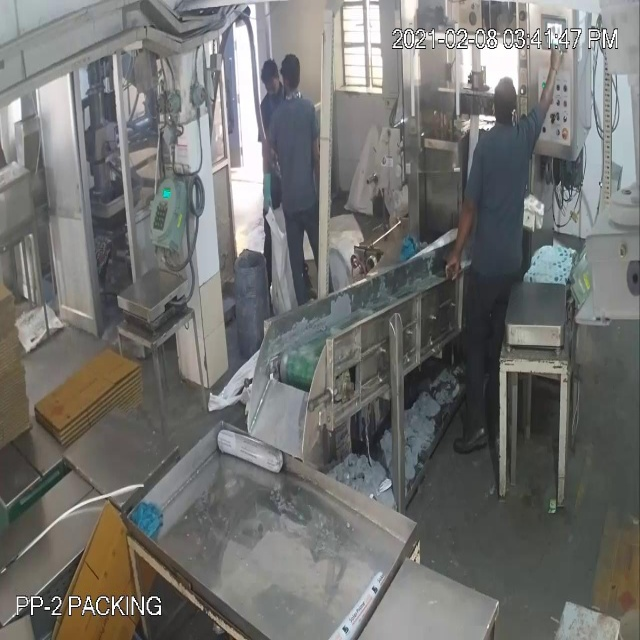Sin_guantes: (445, 184, 478, 290), (536, 36, 568, 130)
